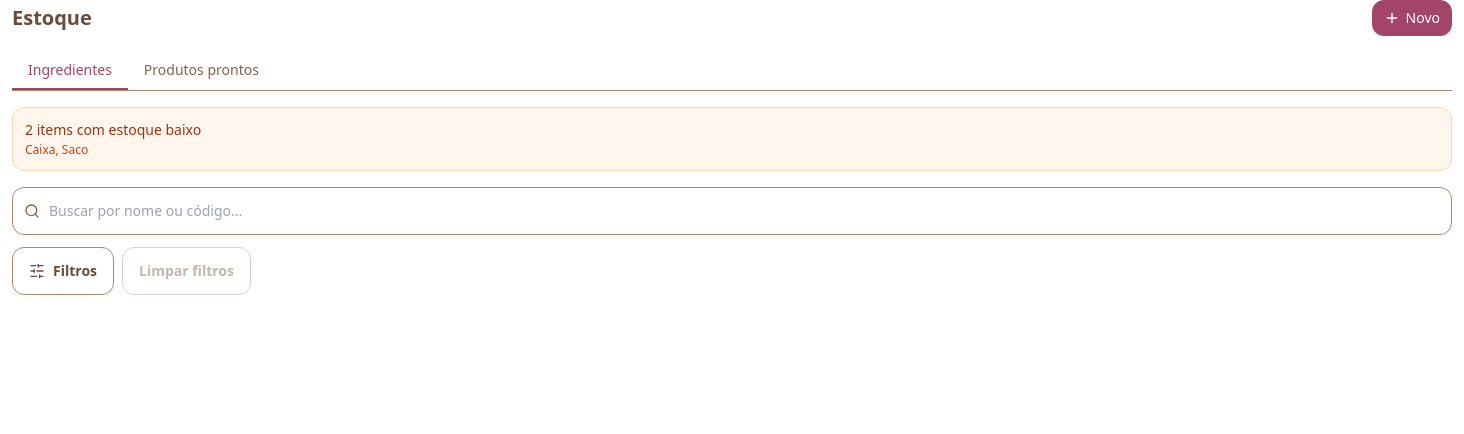
mantém busca fora do submenu e mostra as opções apenas ao abrir Filtros
Expected: the field labelled "Buscar por nome ou código" is shown, [12,187,1452,235]
Expected: the field labelled "Tipo de item" is not shown
Click the button "Filtros" at (63, 271), box [12,247,114,295]
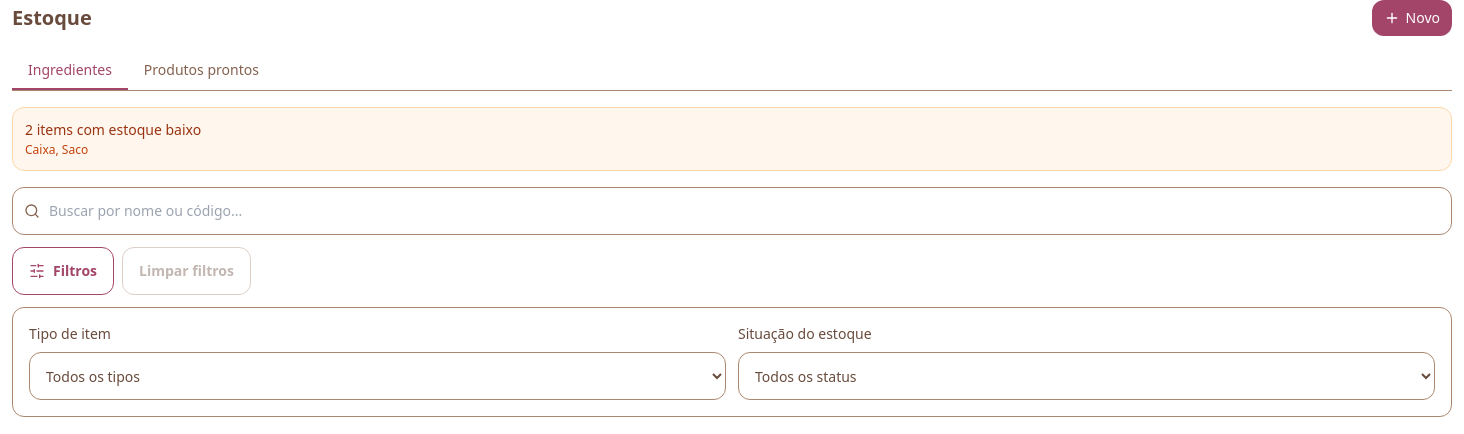
Now the dropdown labelled "Tipo de item" is shown, box [29,352,726,400]
Now the dropdown labelled "Situação do estoque" is shown, box [738,352,1435,400]
Click the button "Filtros" at (63, 271), box [12,247,114,295]
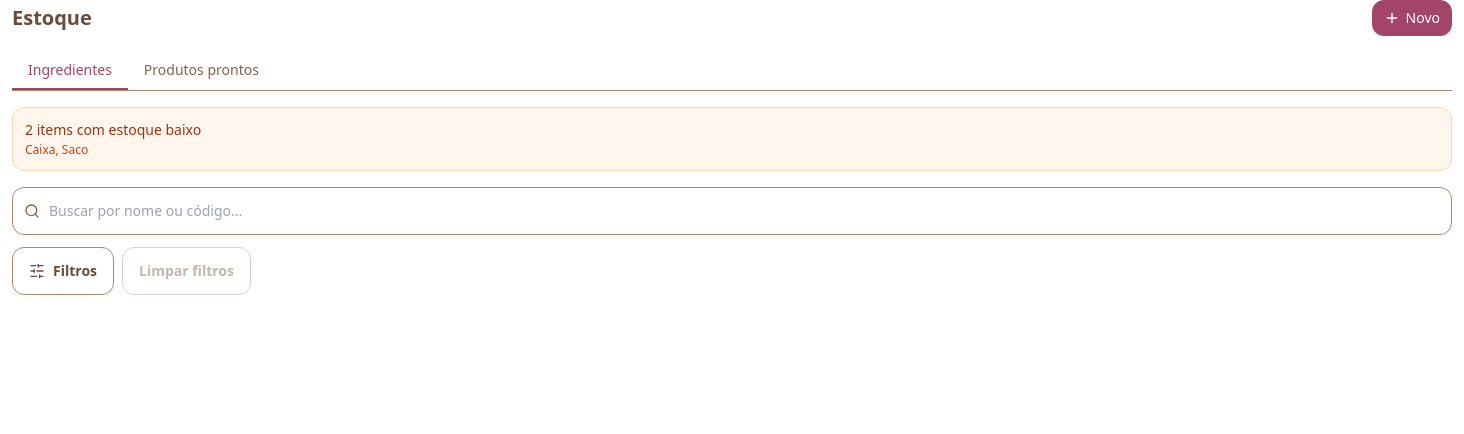
Now the label labelled "Tipo de item" is gone
